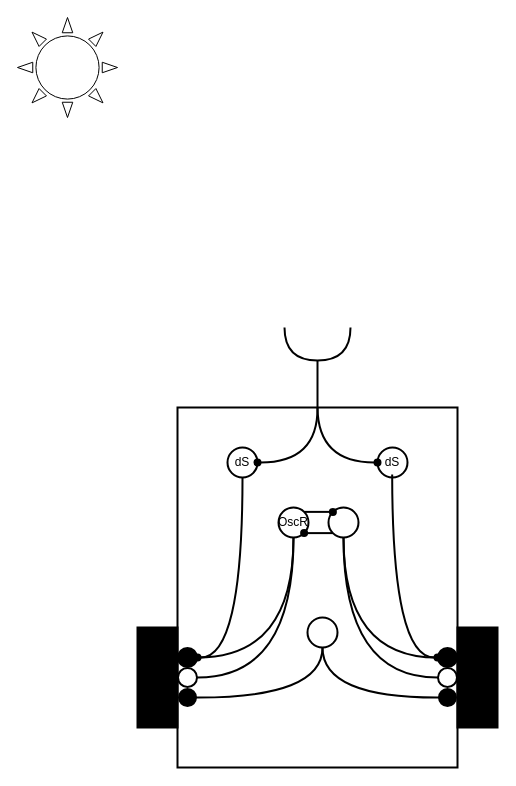
The diagram is 516 pixels wide and 786 high, and some of its shapes have lost their labels. Here are the shapes that lost their labels. From the top down, the centre of each, then its label:
point (343, 522): OscL
point (322, 632): base
